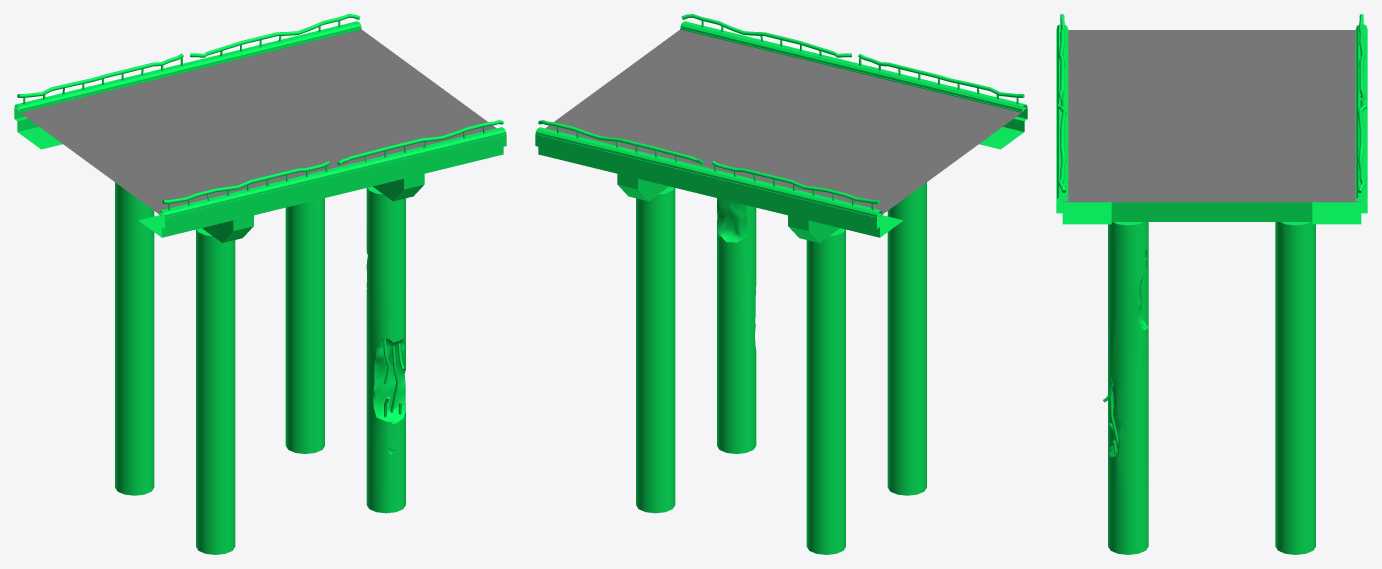
File: Track_Asphalt_01.fbx
The picture shows the model from 3 angles, left to right: view 1: azimuth 30°, elevation 25°; view 2: azimuth 150°, elevation 25°; view 3: azimuth 270°, elevation 25°; orthographic projection. The views are drawn at different scales.
Parts seen in each view (by area): view 1: Track_Asphalt_01, Road; view 2: Track_Asphalt_01, Road; view 3: Road, Track_Asphalt_01.
Boxes of the visible parts, x1,y1,x2,y2 form: Track_Asphalt_01: (14,14,506,554); Road: (17,29,496,216); Track_Asphalt_01: (535,14,1027,554); Road: (545,29,1024,216); Road: (1062,30,1361,202); Track_Asphalt_01: (1056,14,1367,554).
Size of what is drawn, in the model's own units: 3004 by 2291 by 3276.
